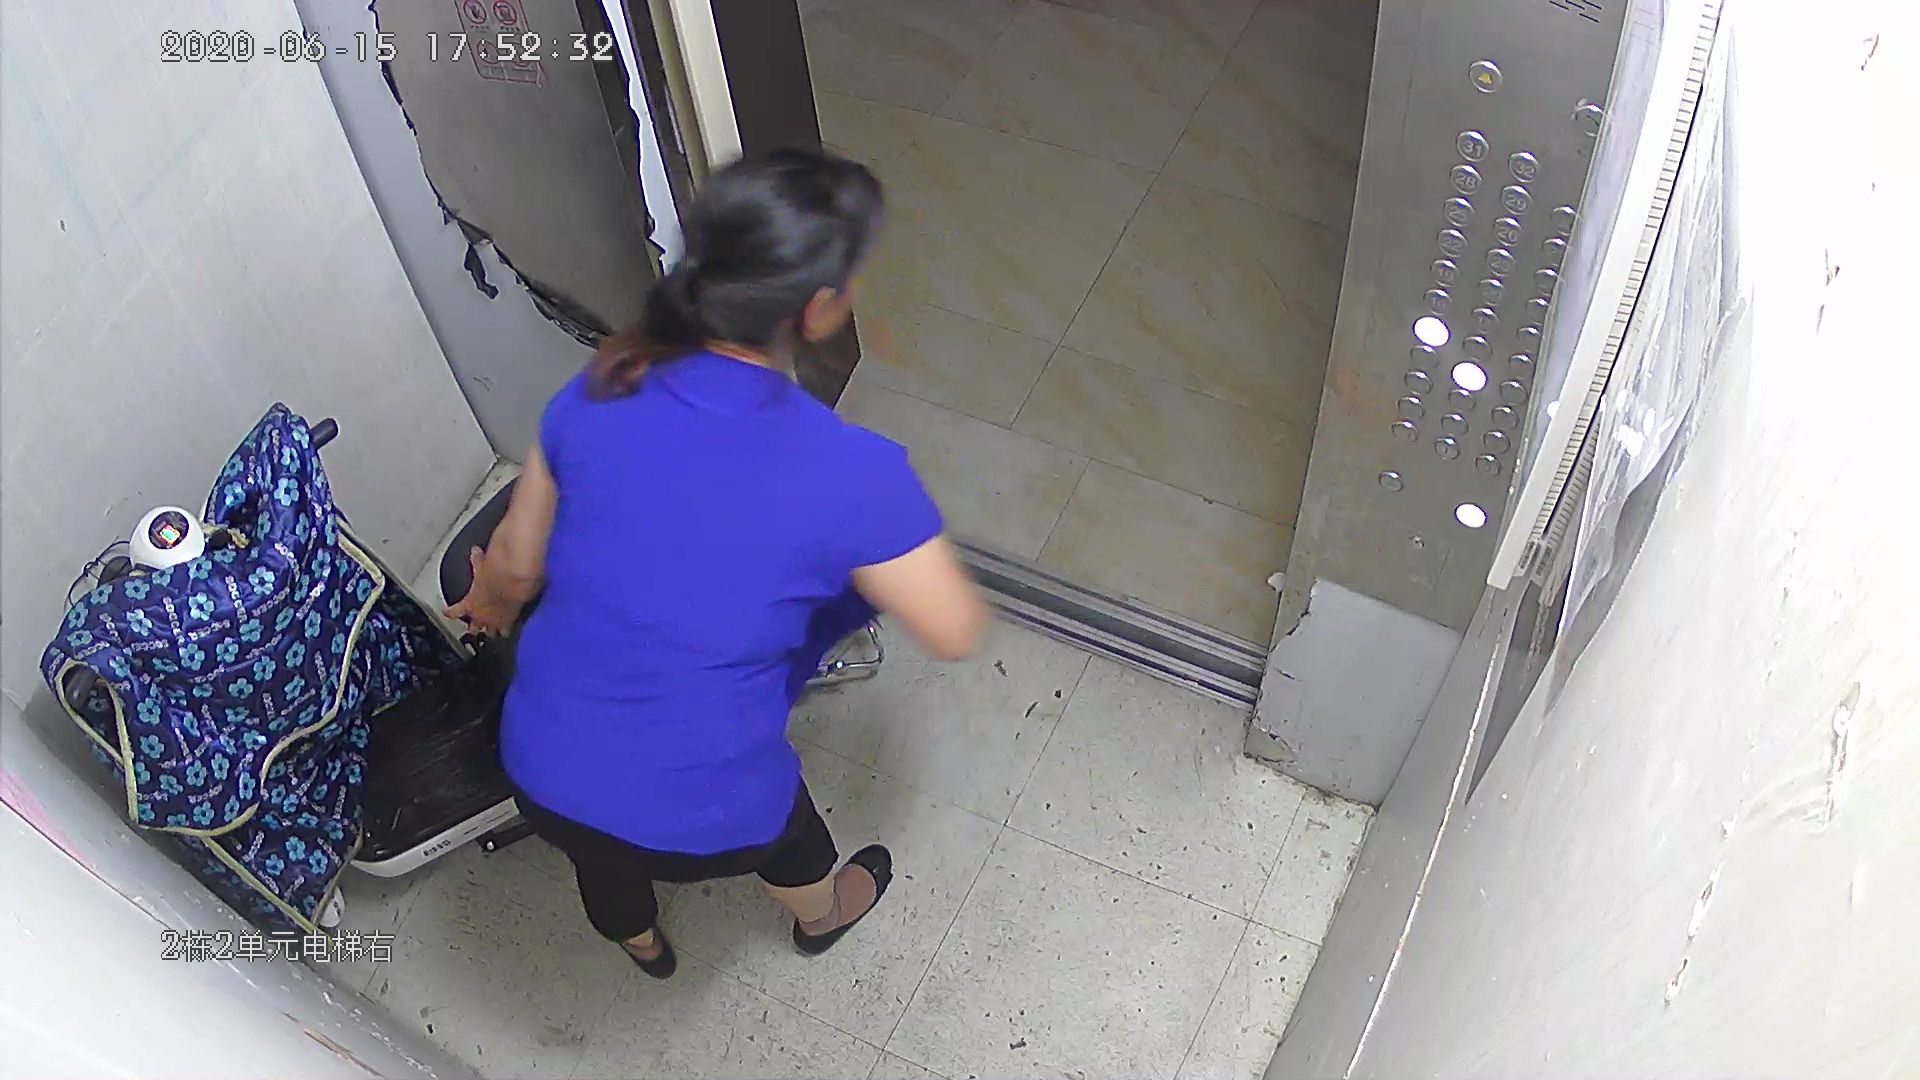Electric-bicycle: (80, 413, 495, 945)
